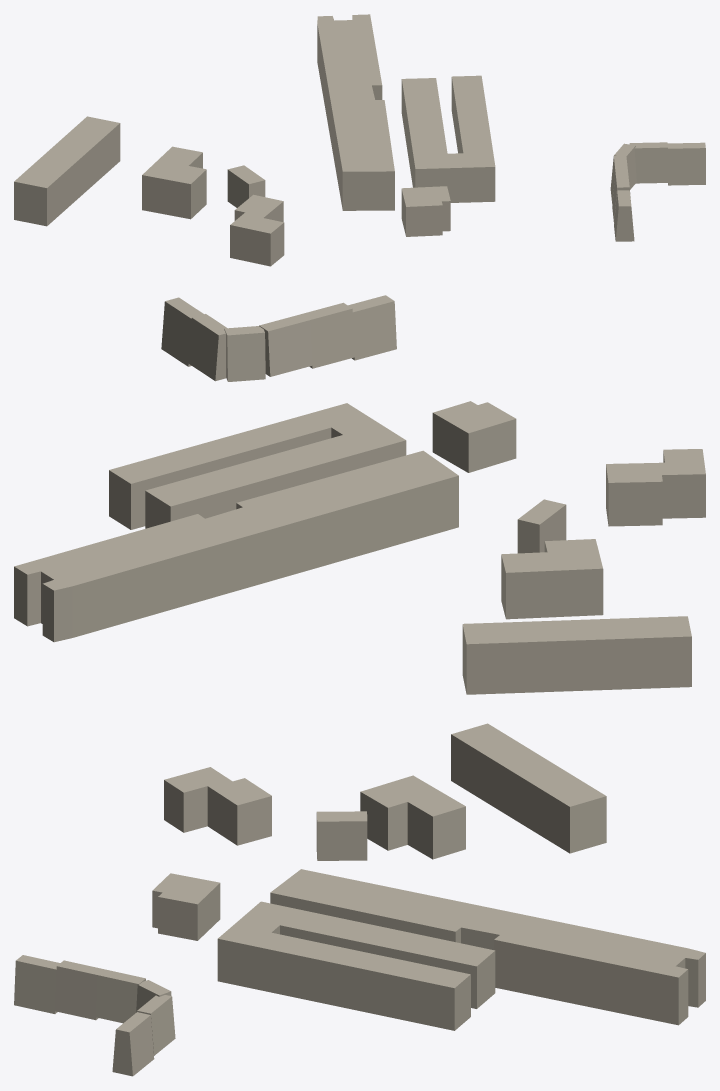
File: bormla_64_30_far.glb
The picture shows the model from 3 angles, top to bottom: view 1: azimuth 30°, elevation 25°; view 2: azimuth 150°, elevation 25°; view 3: azimuth 270°, elevation 25°; orthographic projection. The views are drawn at different scales.
Parts seen in each view (by area): view 1: geometry_0; view 2: geometry_0; view 3: geometry_0.
Boxes of the visible parts, x1,y1,x2,y2 form: geometry_0: (14, 14, 705, 266); geometry_0: (14, 295, 705, 694); geometry_0: (14, 723, 705, 1076).
Size of the model in its own units: 200 by 19 by 180.
